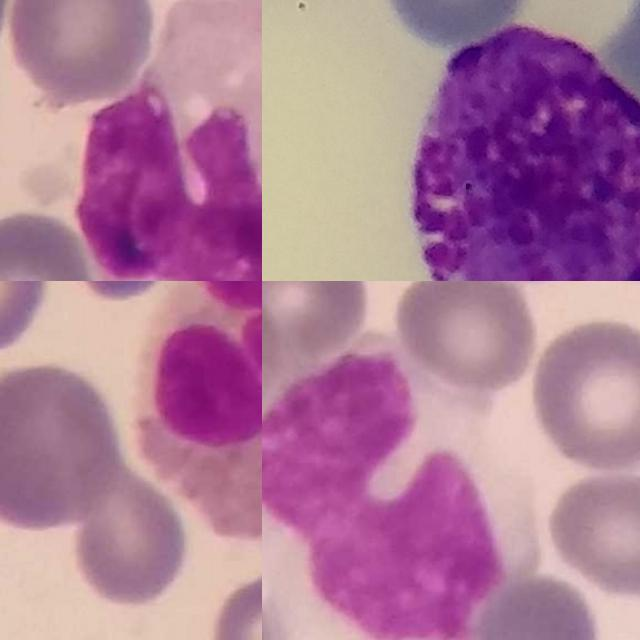Basophil: (411, 23, 640, 281)
Eosinophil: (136, 281, 262, 541)
Monocyte: (262, 332, 530, 640), (80, 0, 262, 281)
